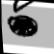correct: (4, 12, 42, 39)
